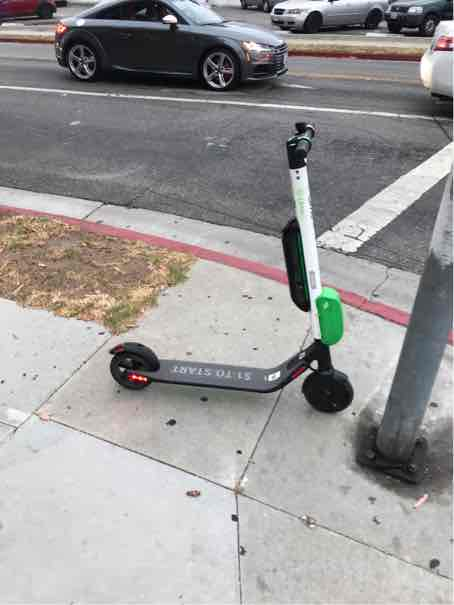scooter: (106, 115, 354, 402)
